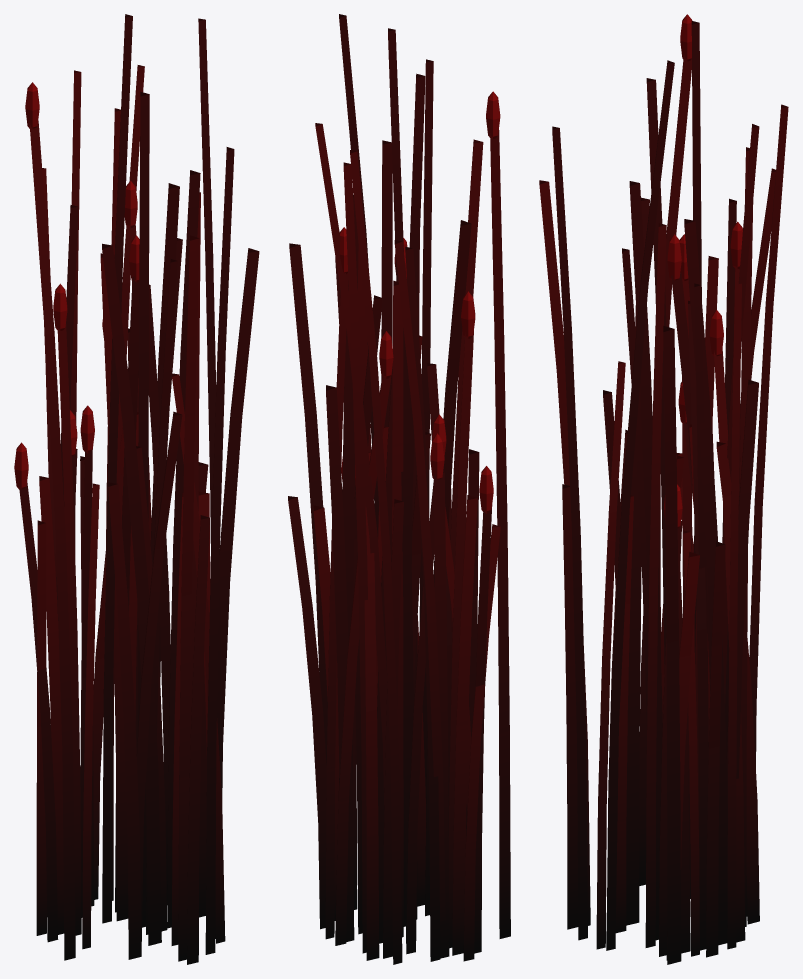
The model's file is wet_sedge_v3.fbx.
The picture shows the model from 3 angles, left to right: view 1: azimuth 30°, elevation 25°; view 2: azimuth 150°, elevation 25°; view 3: azimuth 270°, elevation 25°; orthographic projection.
Parts seen in each view (by area): view 1: wet_sedge_v3; view 2: wet_sedge_v3; view 3: wet_sedge_v3.
Boxes of the visible parts, <box> form: wet_sedge_v3: <box>14,14,259,964</box>; wet_sedge_v3: <box>288,14,510,964</box>; wet_sedge_v3: <box>539,14,788,964</box>.
Size of the model in its own units: 23.61 by 90.75 by 22.68.
